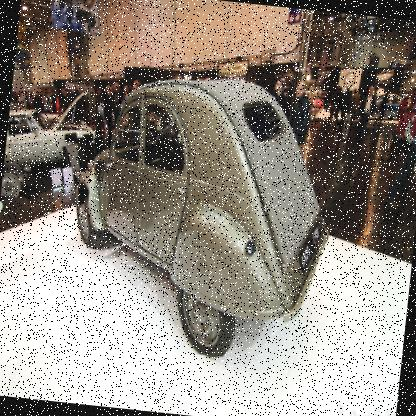Car: (46, 58, 334, 366), (1, 83, 100, 206)
